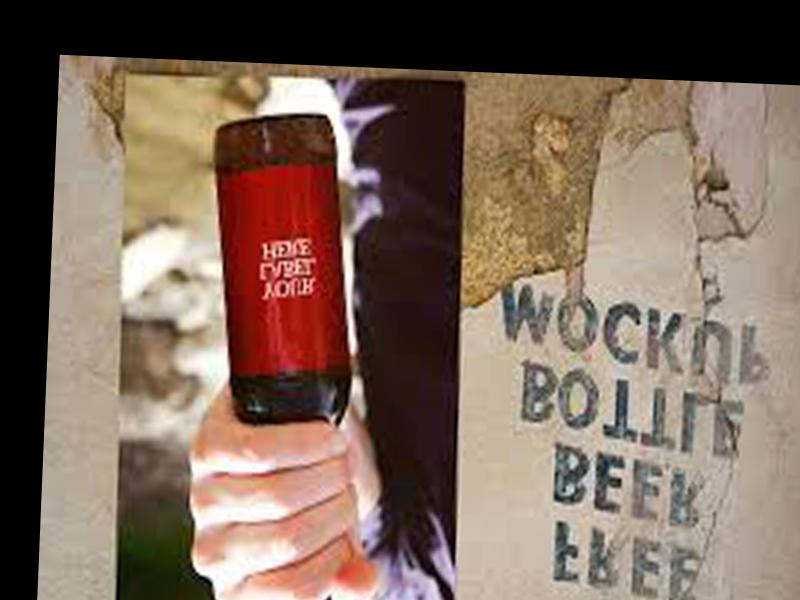Beer: (193, 109, 357, 600)
